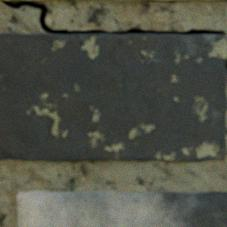brick: (0, 33, 226, 161), (155, 0, 177, 1)
broken_brick: (17, 190, 226, 226)
crack: (1, 0, 225, 35), (225, 56, 226, 69)
